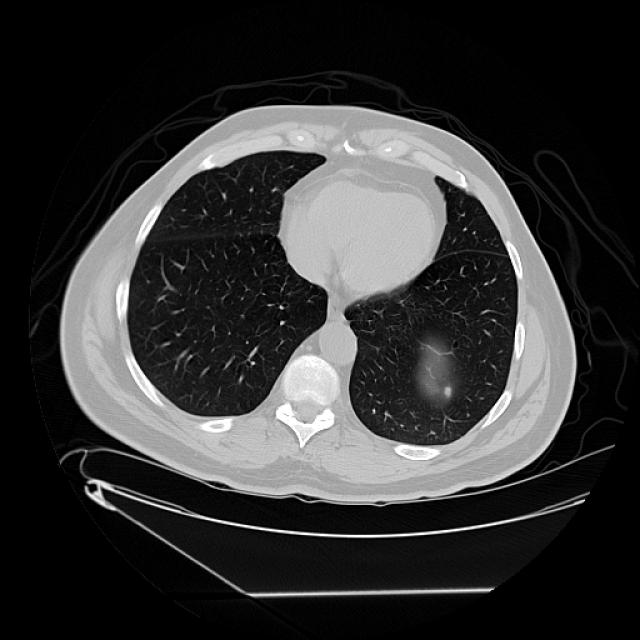nodule: (437, 381, 455, 399)
